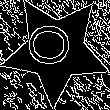O_E: (30, 27, 81, 73)
